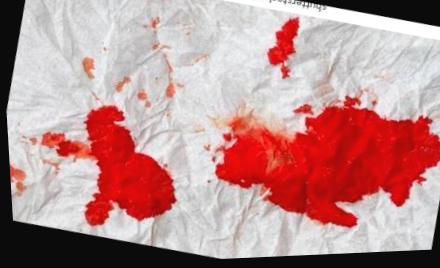Fire: (212, 109, 440, 231), (80, 107, 172, 227), (108, 20, 182, 114), (266, 20, 298, 81), (37, 132, 92, 163), (8, 166, 22, 196), (81, 60, 97, 81), (38, 159, 56, 176), (291, 107, 312, 117), (343, 99, 359, 109)
